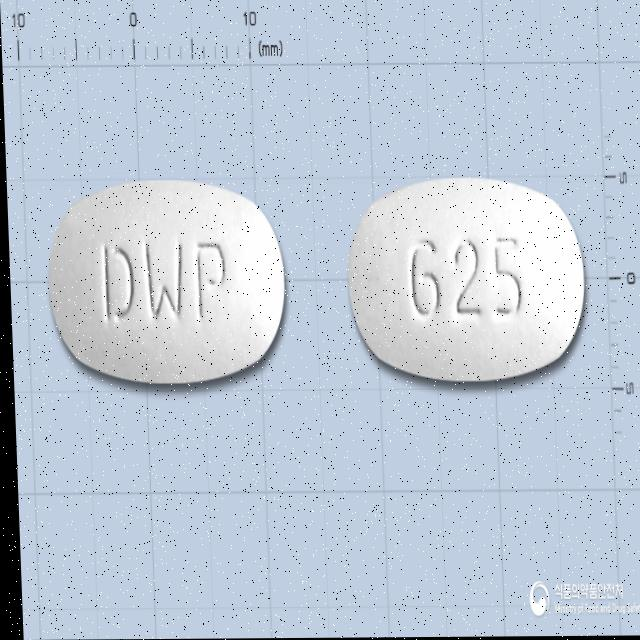A Progen Clarithromycin Tab-500mg: (342, 178, 588, 388), (45, 180, 289, 388)
